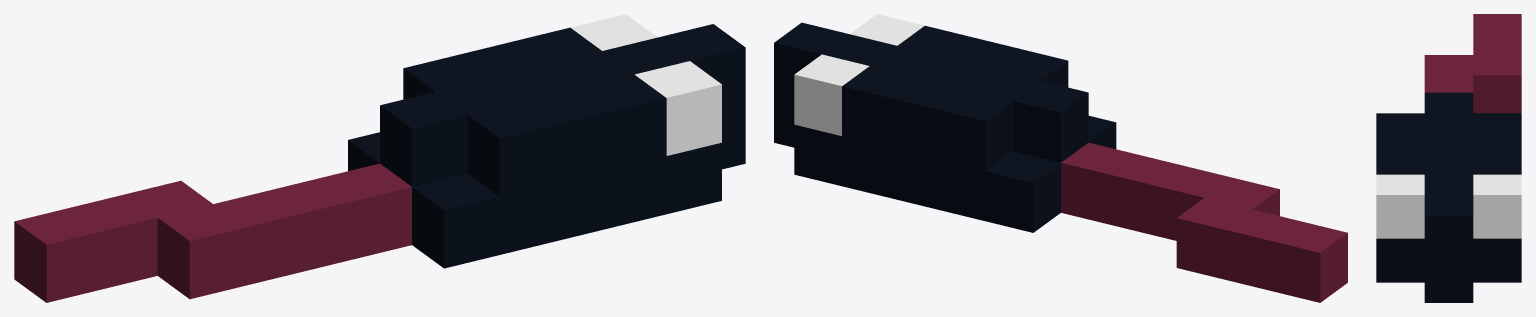
The model's file is lvl1-32.obj.
3 renders of one model, left to right at view 1: azimuth 30°, elevation 25°; view 2: azimuth 150°, elevation 25°; view 3: azimuth 270°, elevation 25°, orthographic. The views are drawn at different scales.
Size of the model in its own units: 1.2 by 0.2 by 0.3.
Materials: 1 (1 with a texture image).
